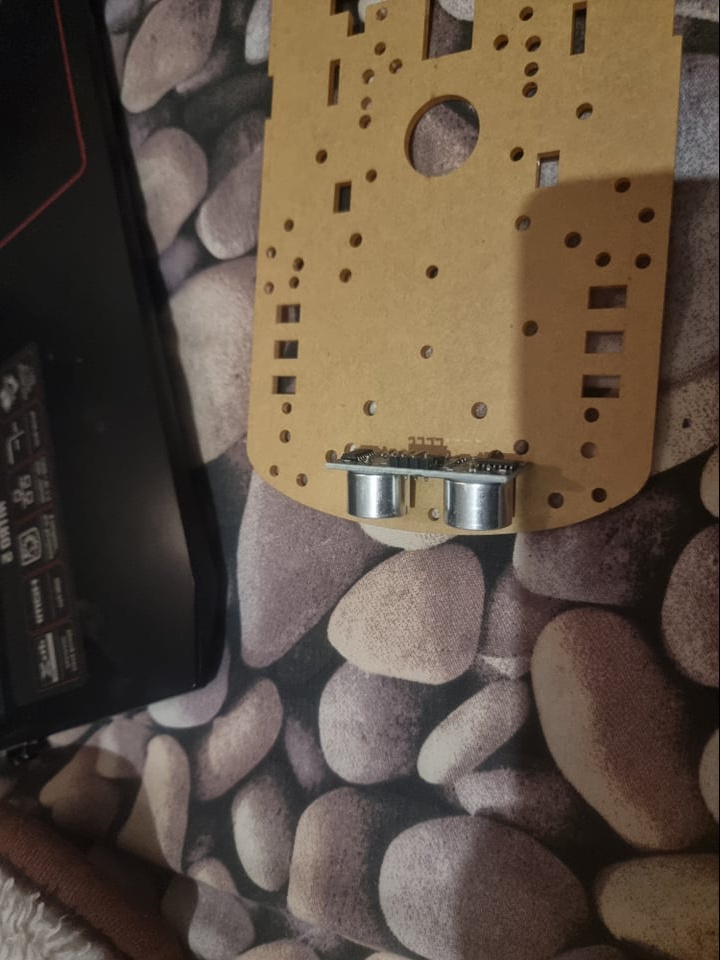SENSOR: (329, 445, 533, 531)
